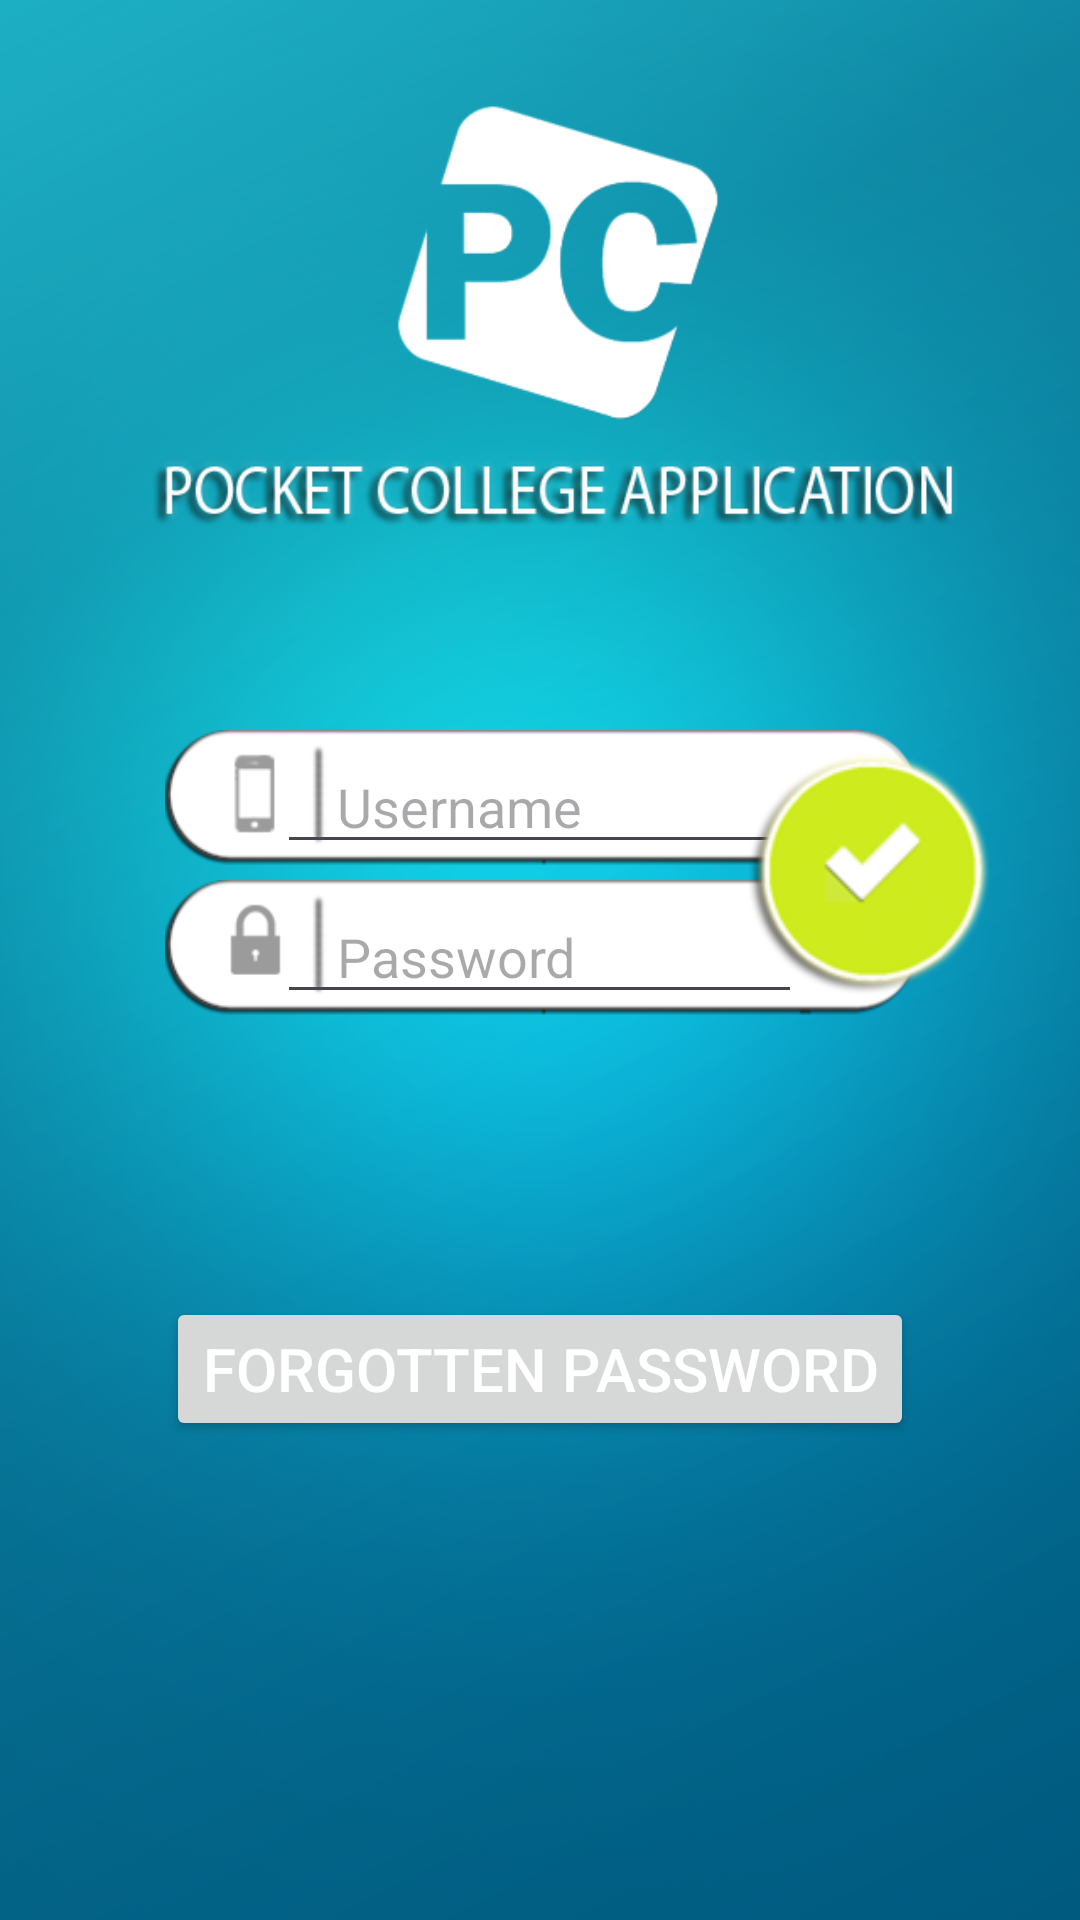

Icon click points for this 1080×1920 phone screenshot, format (x,y):
go this: (869,874)
